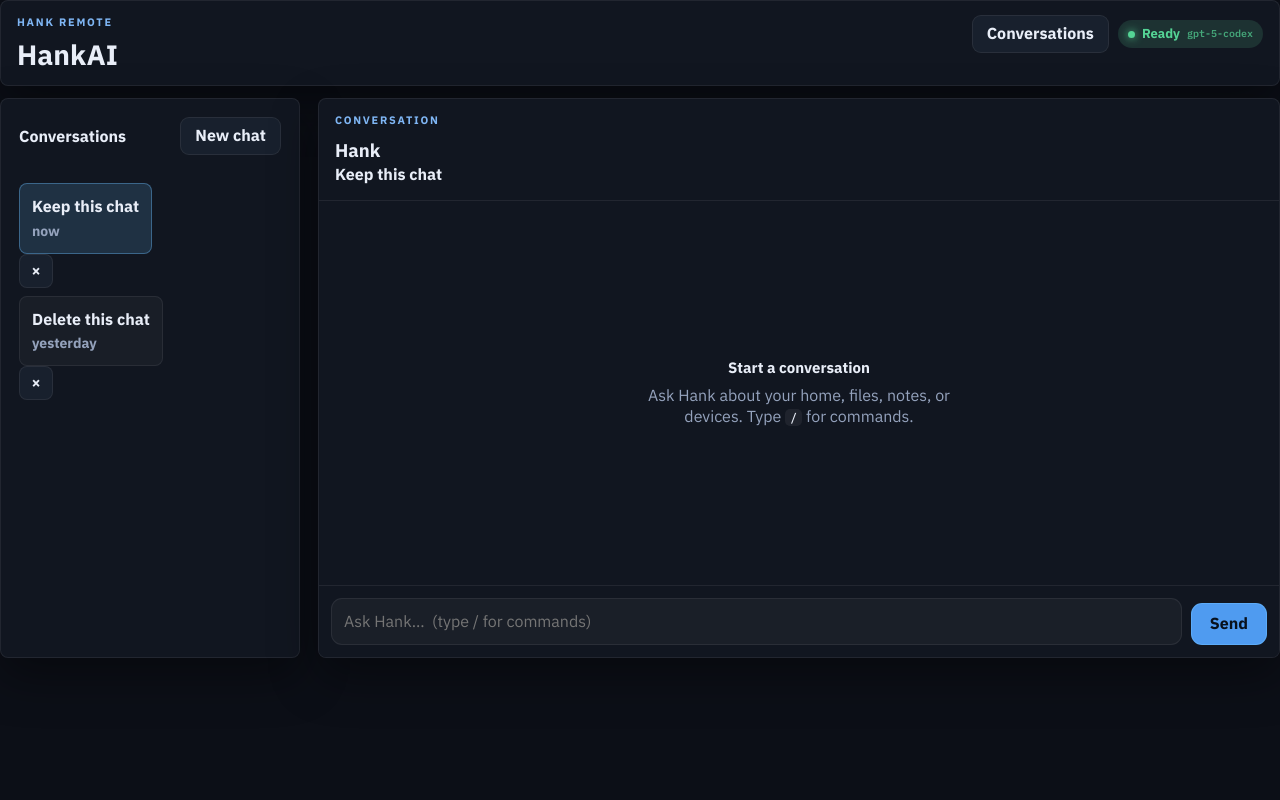
it: HankAIPage › deletes a conversation from the list after confirmation
Click the button named "Delete Delete this chat".
click(36, 383)  # box 19,366 -> 53,400
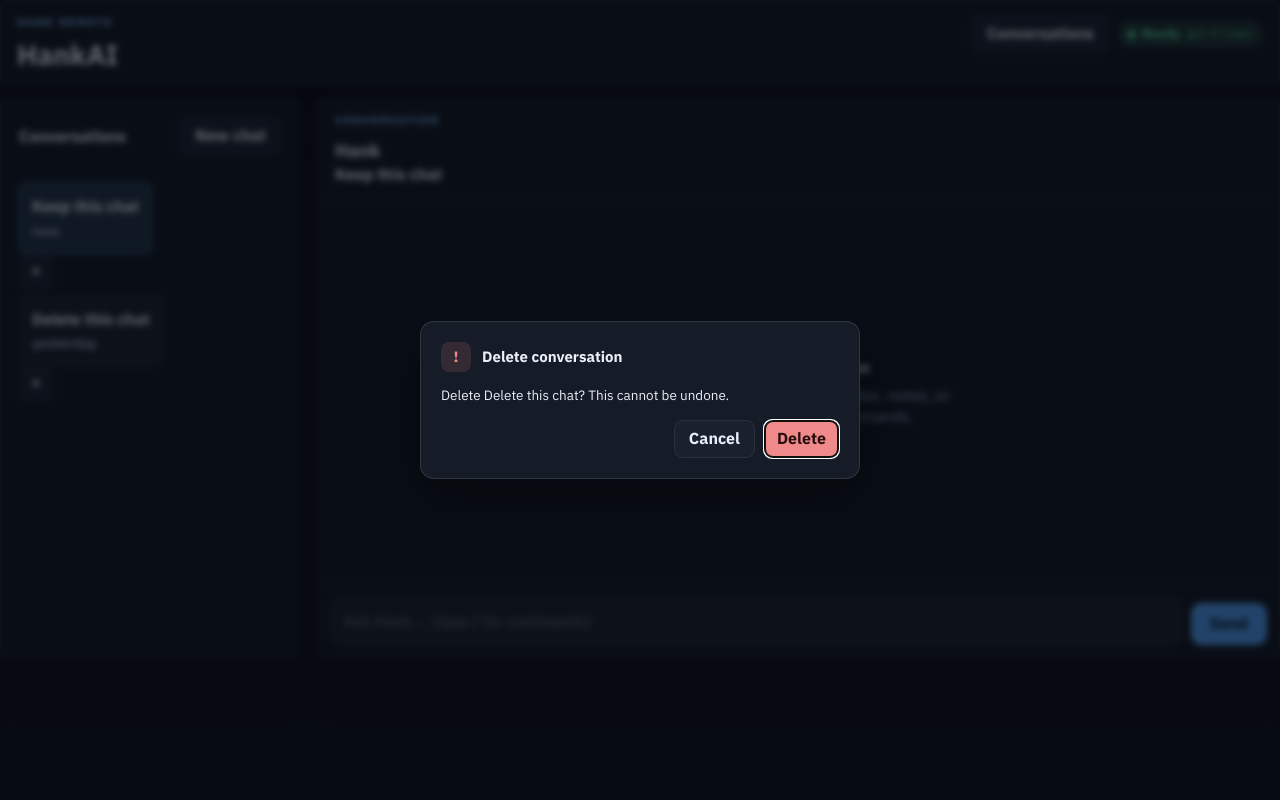
Click the button "Delete".
click(802, 439)  # box 764,420 -> 839,458
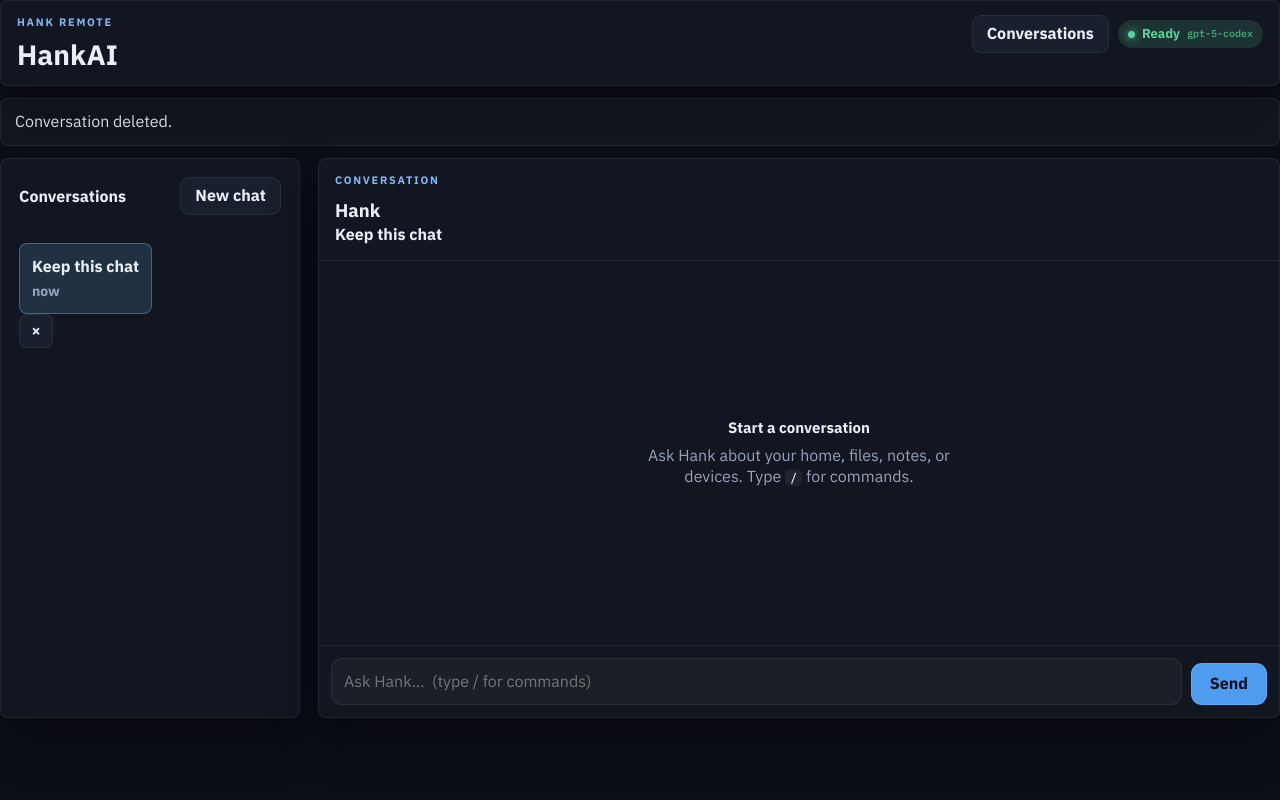
Expected: the button "Keep this chat now" is shown, 19,243 -> 152,313
Now the button "Delete this chat" is gone
